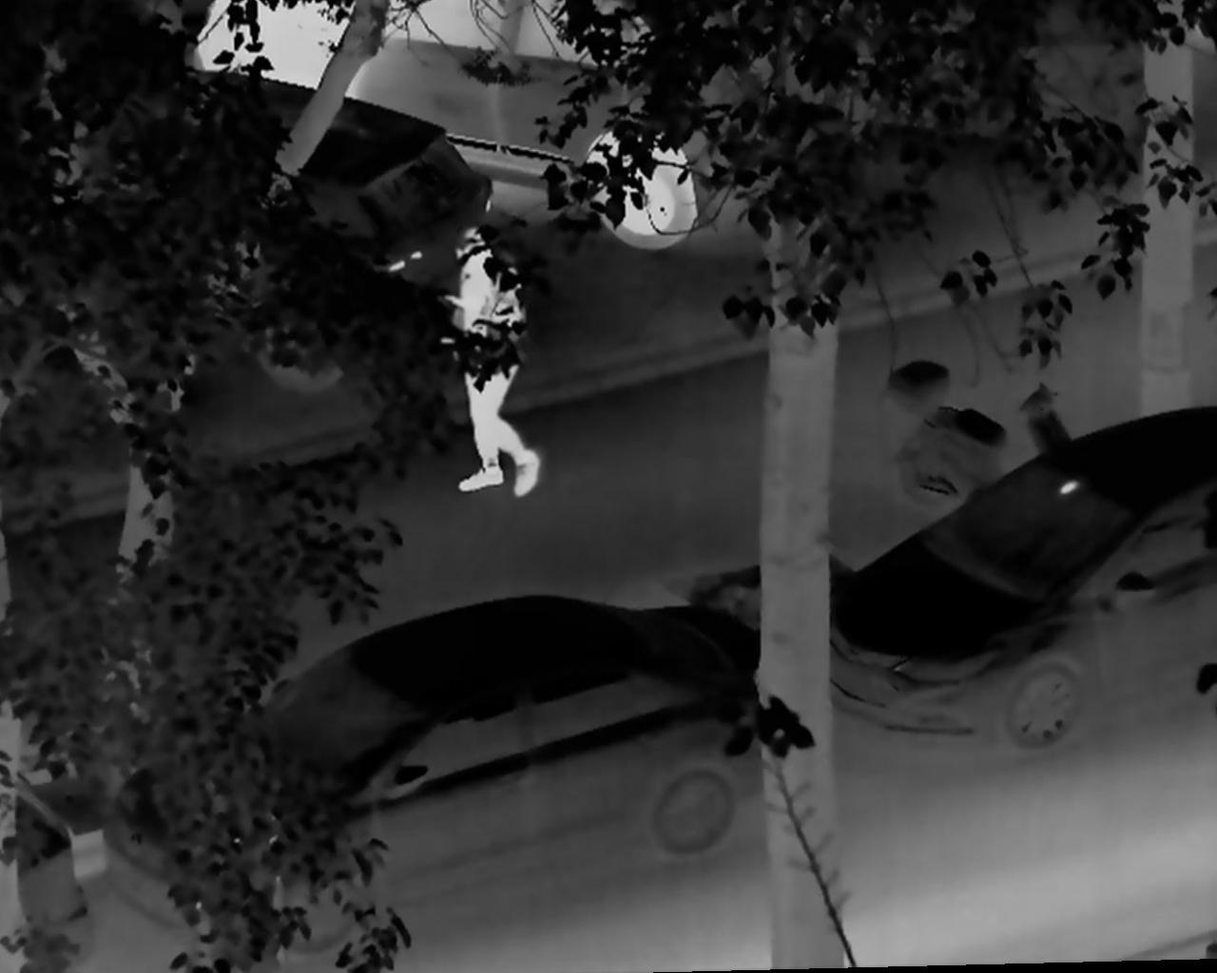person: (432, 221, 544, 506)
